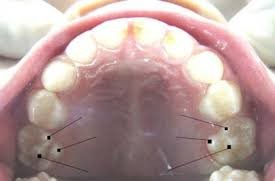UL1BC_healthy: (204, 84, 241, 116)
UL2BC_decay: (206, 119, 258, 165)
ULCI_decay: (132, 20, 166, 52)
ULC_healthy: (192, 52, 221, 85)
ULLI_healthy: (166, 29, 192, 63)
UR1BC_healthy: (28, 92, 69, 128)
UR2BC_decay: (21, 131, 63, 170)
URCI_healthy: (94, 20, 129, 48)
URC_healthy: (42, 60, 76, 93)
URLI_healthy: (66, 34, 99, 62)
